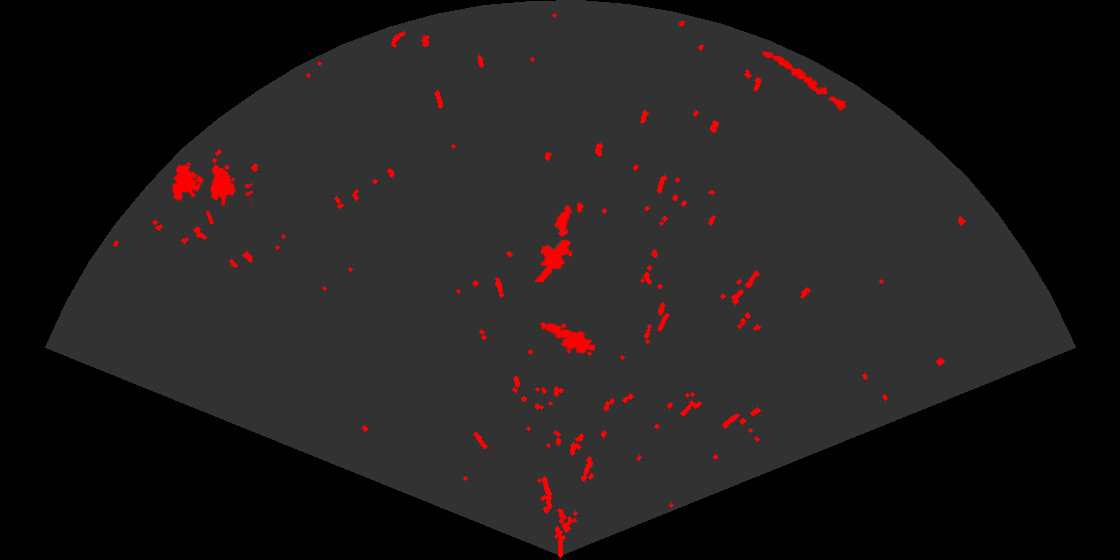cage: (170, 157, 253, 224)
chain: (761, 50, 848, 112)
frogman: (533, 204, 574, 282), (538, 321, 595, 356)
